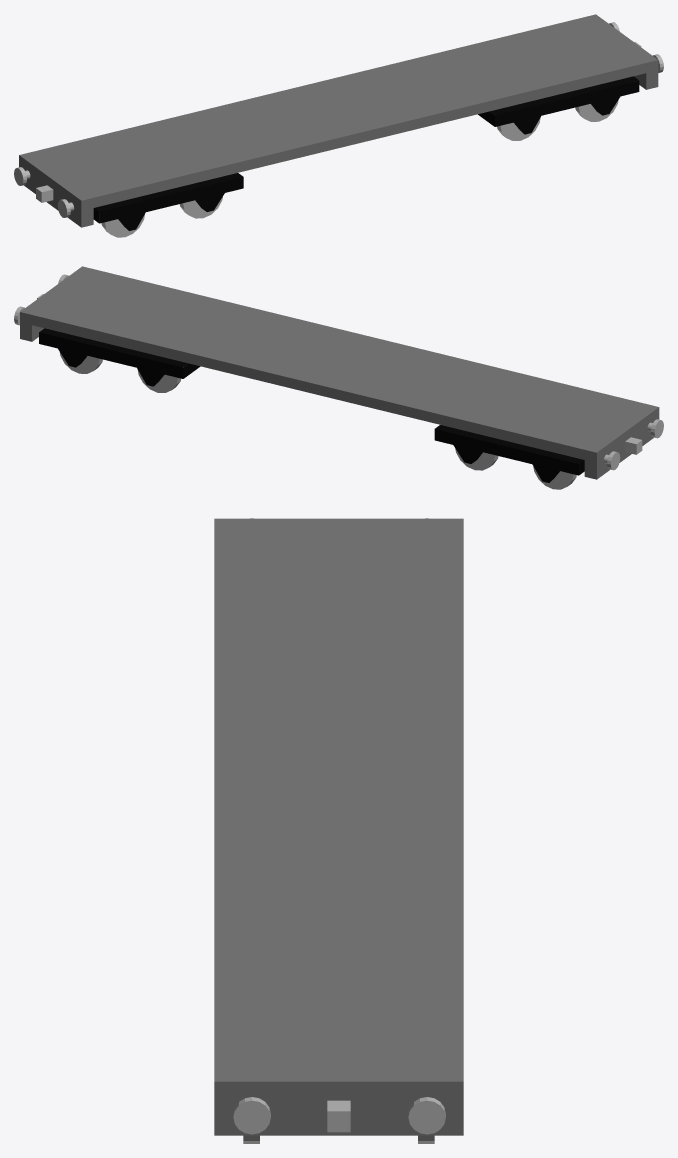
The model's file is frigth_vehicle_03.glb.
The picture shows the model from 3 angles, top to bottom: view 1: azimuth 30°, elevation 25°; view 2: azimuth 150°, elevation 25°; view 3: azimuth 270°, elevation 25°; orthographic projection. The views are drawn at different scales.
Visible parts, largest first — view 1: puffer.003; view 2: puffer.003; view 3: puffer.003.
Boxes of the visible parts, x1,y1,x2,y2 form: puffer.003: (14,14,663,237); puffer.003: (14,266,663,489); puffer.003: (214,518,463,1143).
Bounding box in the file's own units: 11.1 × 0.9618 × 2.
1 material, 1 textured.
